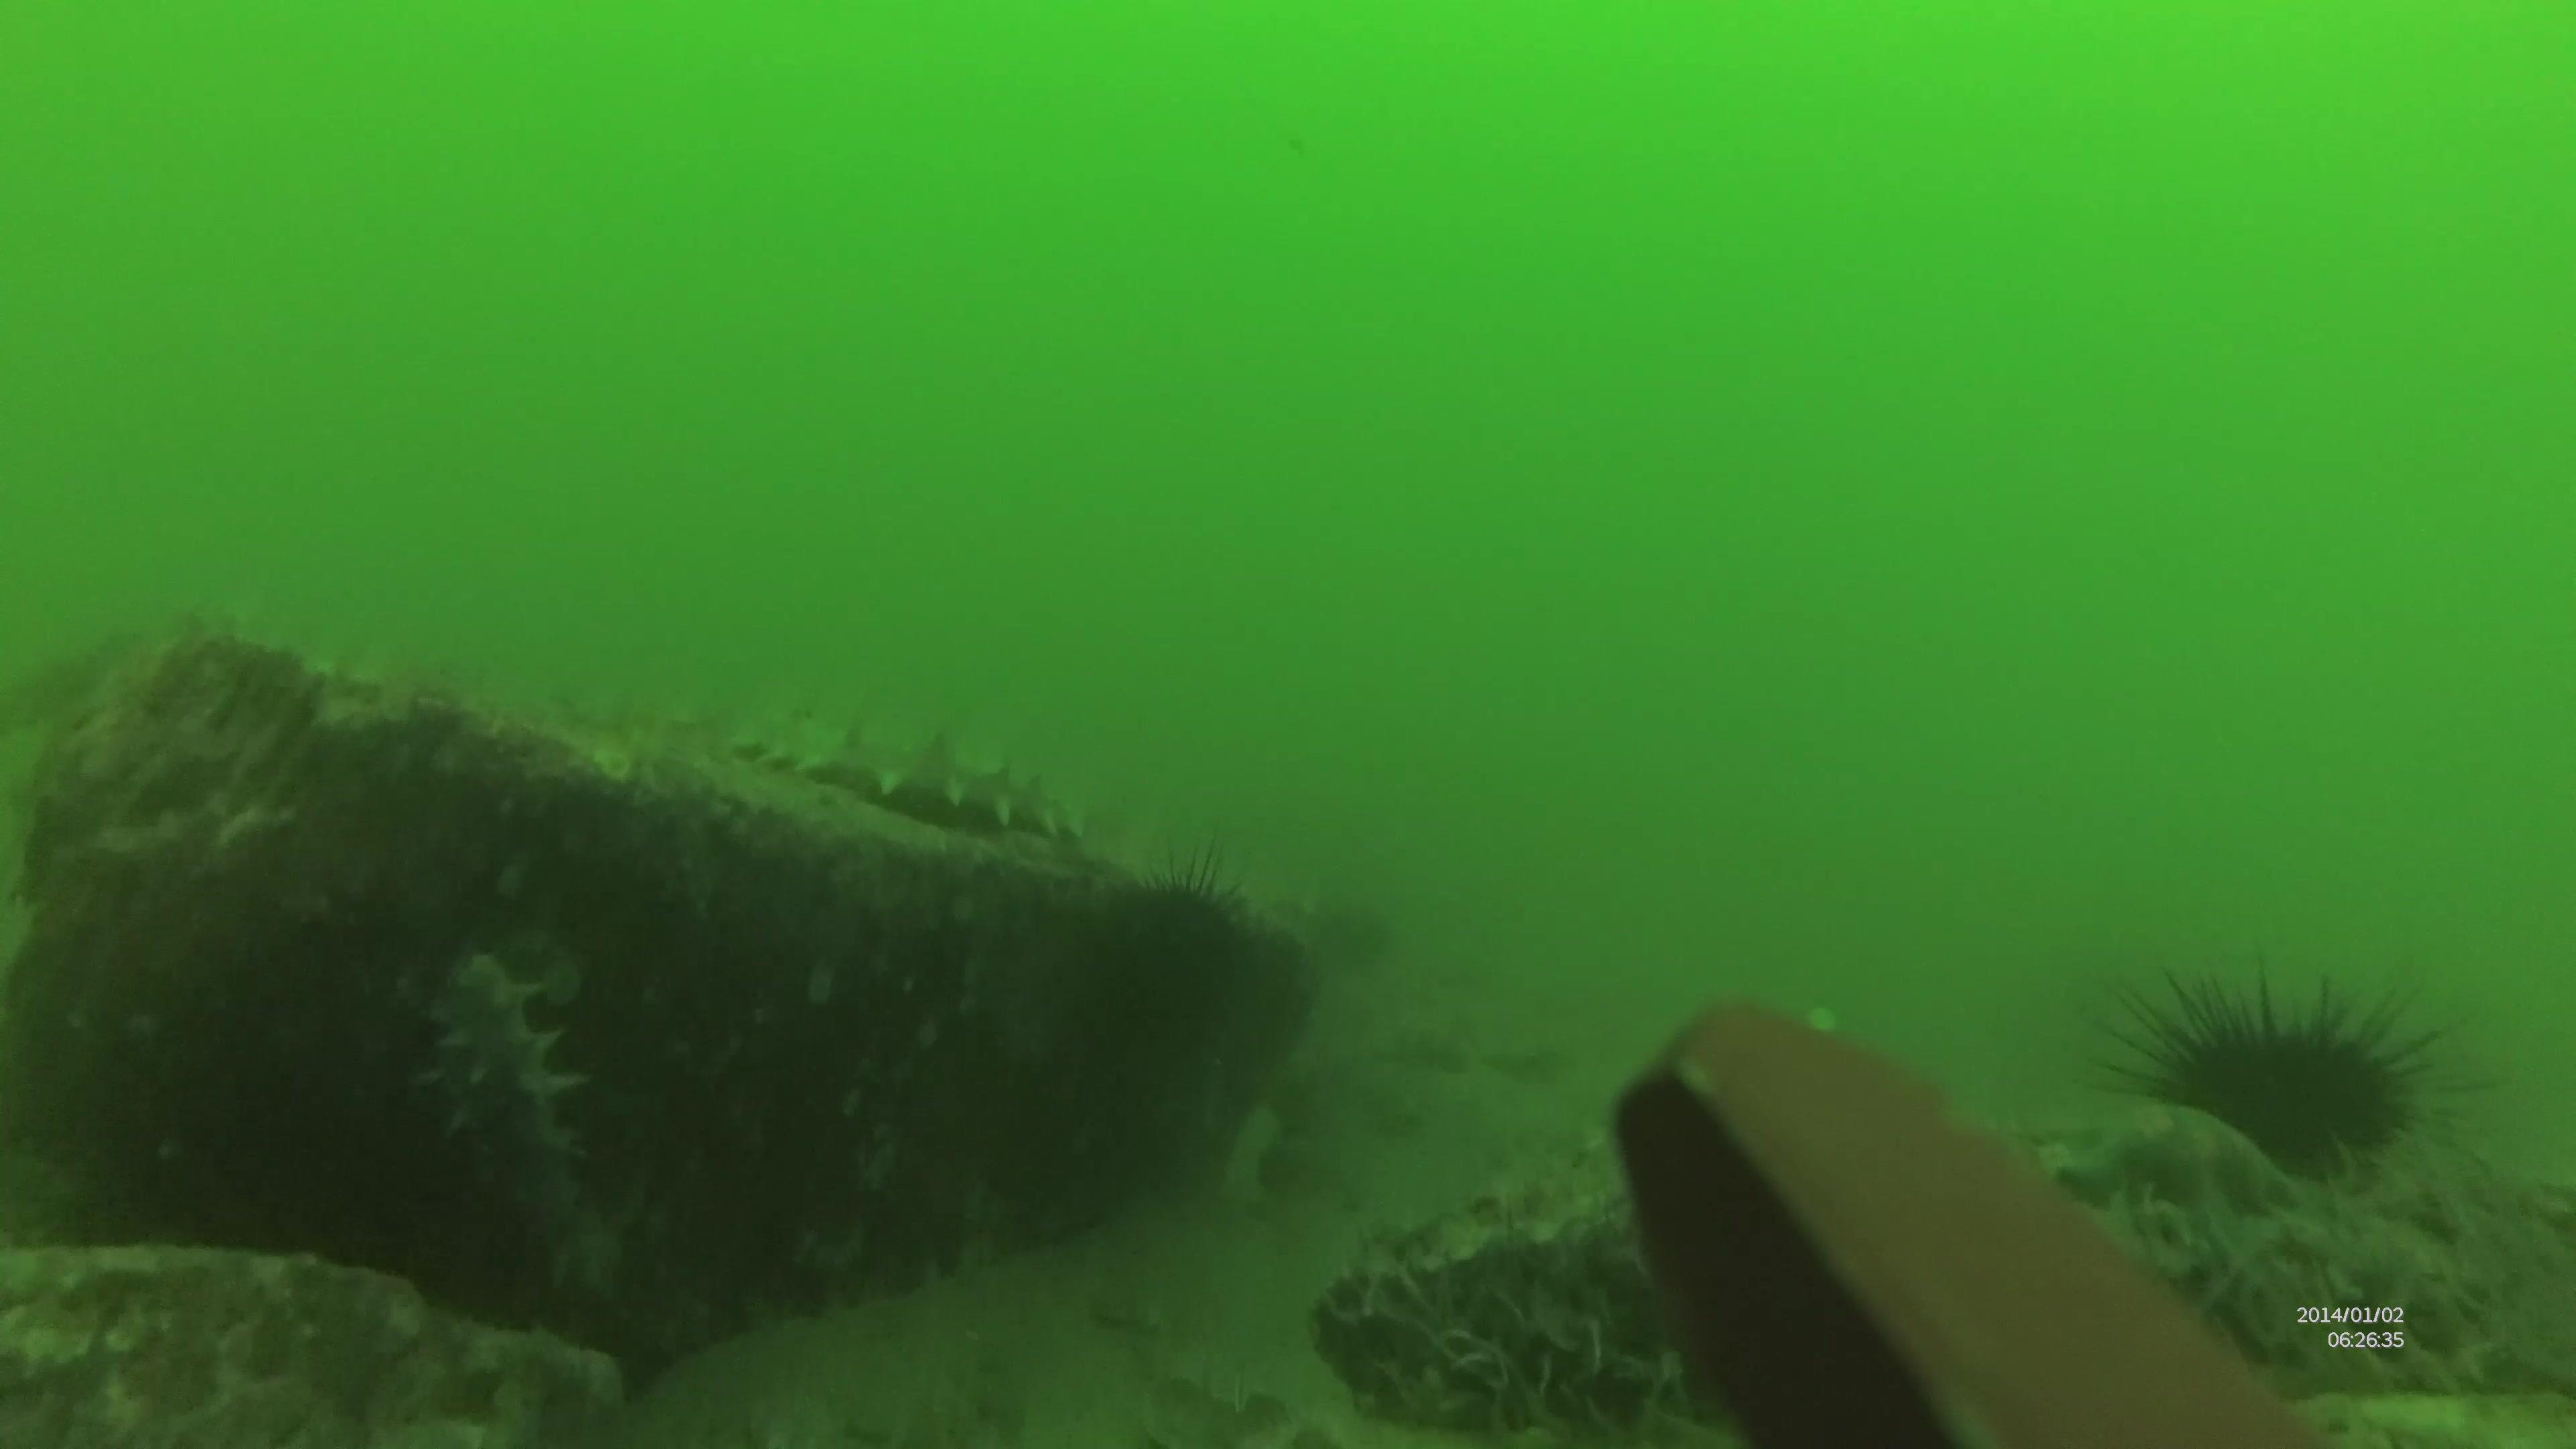echinus: (2104, 966, 2486, 1203)
holothurian: (412, 950, 635, 1302), (727, 711, 1085, 844)
